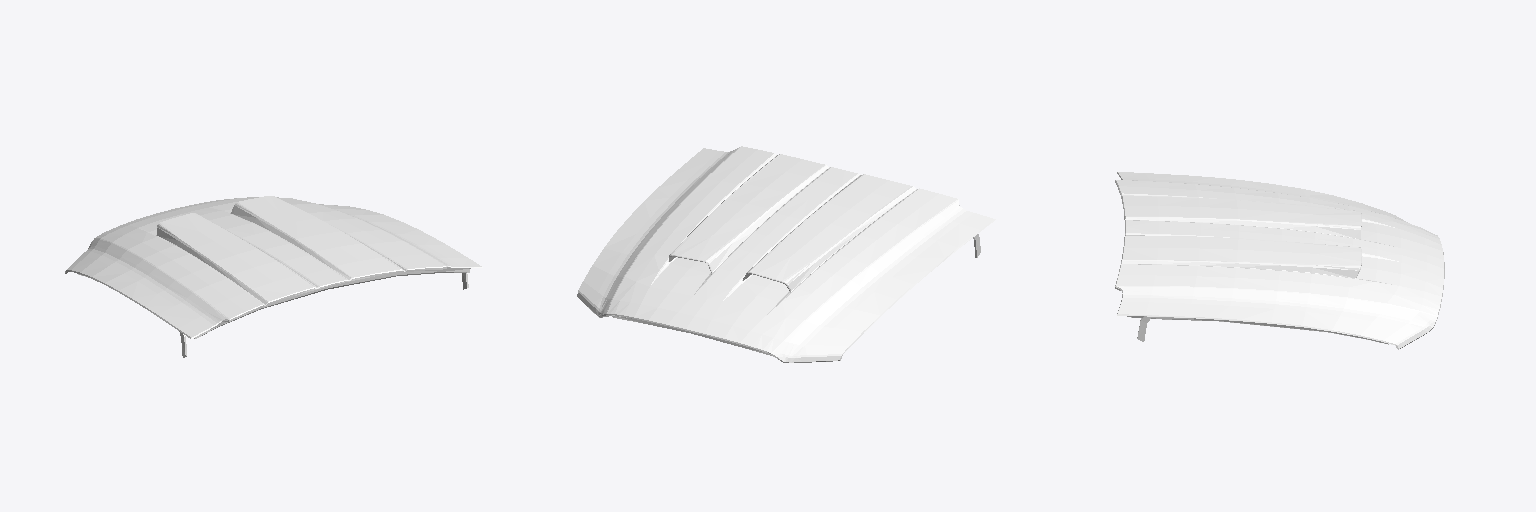
The model's file is Cofre.obj.
3 renders of one model, left to right at view 1: azimuth 30°, elevation 25°; view 2: azimuth 150°, elevation 25°; view 3: azimuth 270°, elevation 25°, orthographic.
Visible parts, largest first — view 1: bonnet_ok; view 2: bonnet_ok; view 3: bonnet_ok.
Part boxes in pixels (bbox=[...]): bonnet_ok: bbox=[65, 196, 482, 357]; bonnet_ok: bbox=[577, 146, 995, 362]; bonnet_ok: bbox=[1115, 172, 1444, 349].
Bounding box in the file's own units: 11.22 × 2.19 × 10.94.